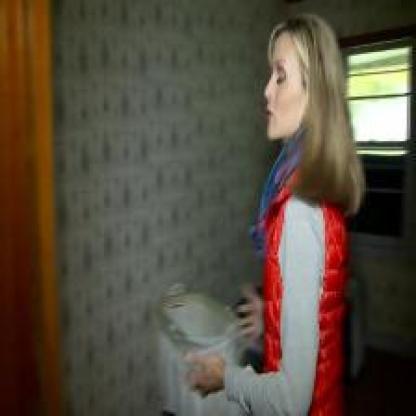other: (318, 208, 346, 413)
